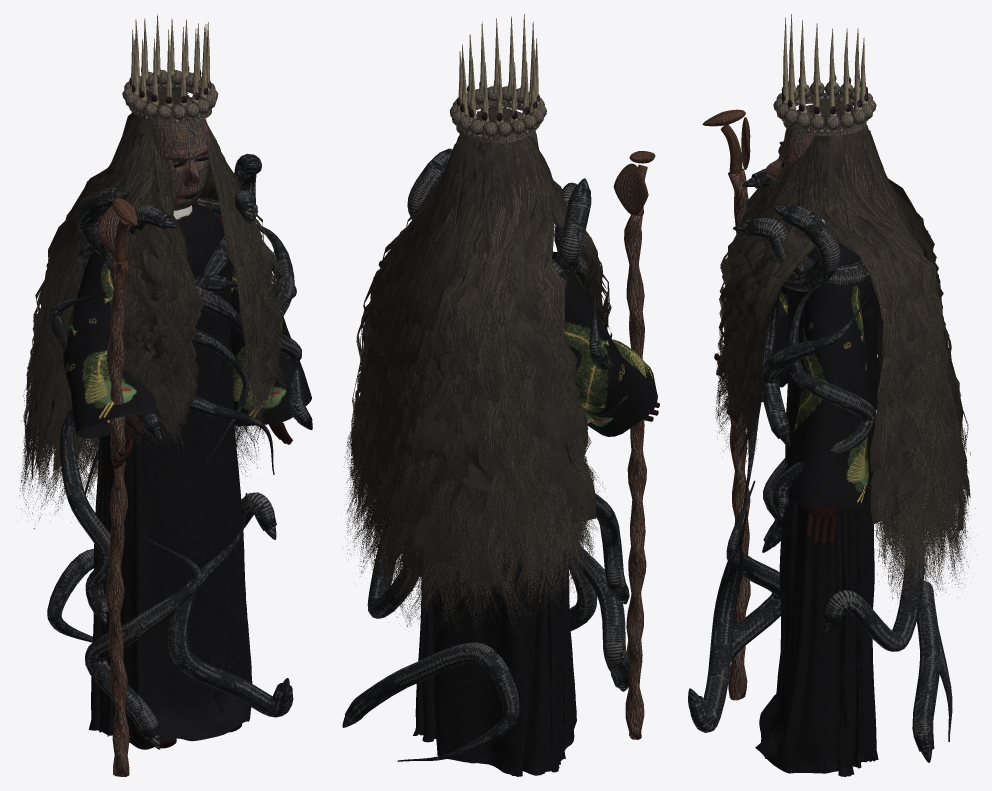
Rendered from zahhak.glb.
3 views of the same model, side by side, from view 1: azimuth 30°, elevation 25°; view 2: azimuth 150°, elevation 25°; view 3: azimuth 270°, elevation 25° (orthographic).
Parts seen in each view (by area): view 1: Robe, Snakes, HairCards.003, HairCards.001, HairCards.002, Sleeve.001, Staff, HairBase.001, HairBase.003, CrownSpikes, Sleeve, Mask (+5 smaller); view 2: HairCards.001, HairCards, Robe, HairBase.001, Snakes, Sleeve.001, Staff, HairBase, CrownSpikes, HairCards.003, CrownBalls, CobraHood (+2 smaller); view 3: Robe, Snakes, HairCards, Sleeve, HairBase, HairCards.002, Staff, CrownSpikes, HairBase.002, HairCards.001, CrownBalls, HairBase.001 (+5 smaller).
Boxes of the visible parts, x1,y1,x2,y2 form: Robe: [89, 203, 252, 749]; Snakes: [47, 153, 312, 739]; HairCards.003: [110, 126, 204, 467]; HairCards.001: [19, 98, 149, 528]; HairCards.002: [187, 98, 286, 443]; Sleeve.001: [63, 251, 159, 438]; Staff: [105, 256, 129, 776]; HairBase.001: [25, 87, 188, 478]; HairBase.003: [121, 90, 188, 423]; CrownSpikes: [129, 14, 211, 109]; Sleeve: [219, 233, 311, 426]; Mask: [150, 99, 210, 210]; HairCards.001: [402, 152, 605, 650]; HairCards: [344, 142, 488, 632]; Robe: [413, 547, 576, 776]; HairBase.001: [418, 106, 596, 584]; Snakes: [345, 148, 631, 761]; Sleeve.001: [552, 252, 657, 436]; Staff: [624, 215, 646, 739]; HairBase: [350, 105, 510, 577]; CrownSpikes: [457, 14, 539, 125]; HairCards.003: [527, 136, 612, 338]; CrownBalls: [450, 86, 546, 137]; CobraHood: [613, 163, 648, 215]; Robe: [755, 238, 878, 776]; Snakes: [688, 168, 952, 751]; HairCards: [821, 117, 970, 613]; Sleeve: [784, 285, 870, 508]; HairBase: [808, 101, 970, 531]; HairCards.002: [715, 117, 827, 461]; Staff: [728, 168, 750, 700]; CrownSpikes: [781, 14, 867, 116]; HairBase.002: [726, 102, 839, 426]; HairCards.001: [851, 111, 975, 546]; CrownBalls: [773, 82, 876, 130]; HairBase.001: [809, 99, 968, 505].
Bounding box in the file's own units: 0.831 × 2.14 × 0.7754.
Materials: 7 (7 with a texture image).
